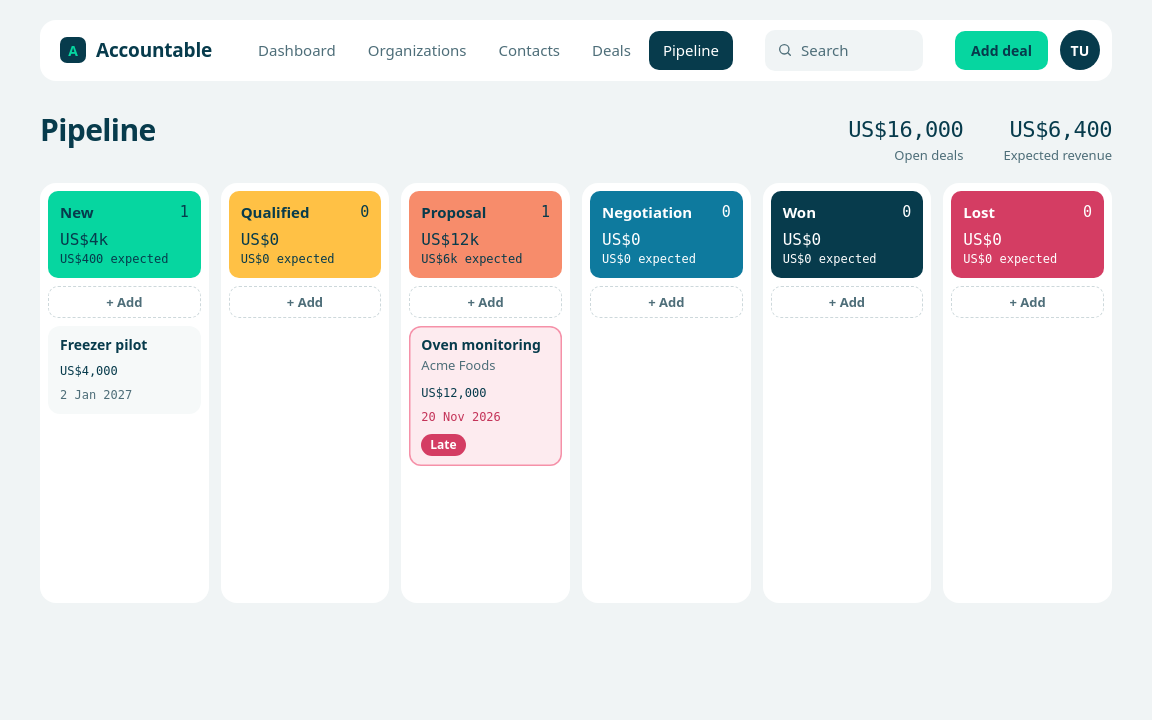
a deal added in a column starts in that stage
Later steps or results of the test are not shown.
Click the button with aria-label "Add deal to Negotiation" at (666, 302), box [590,286,743,318]
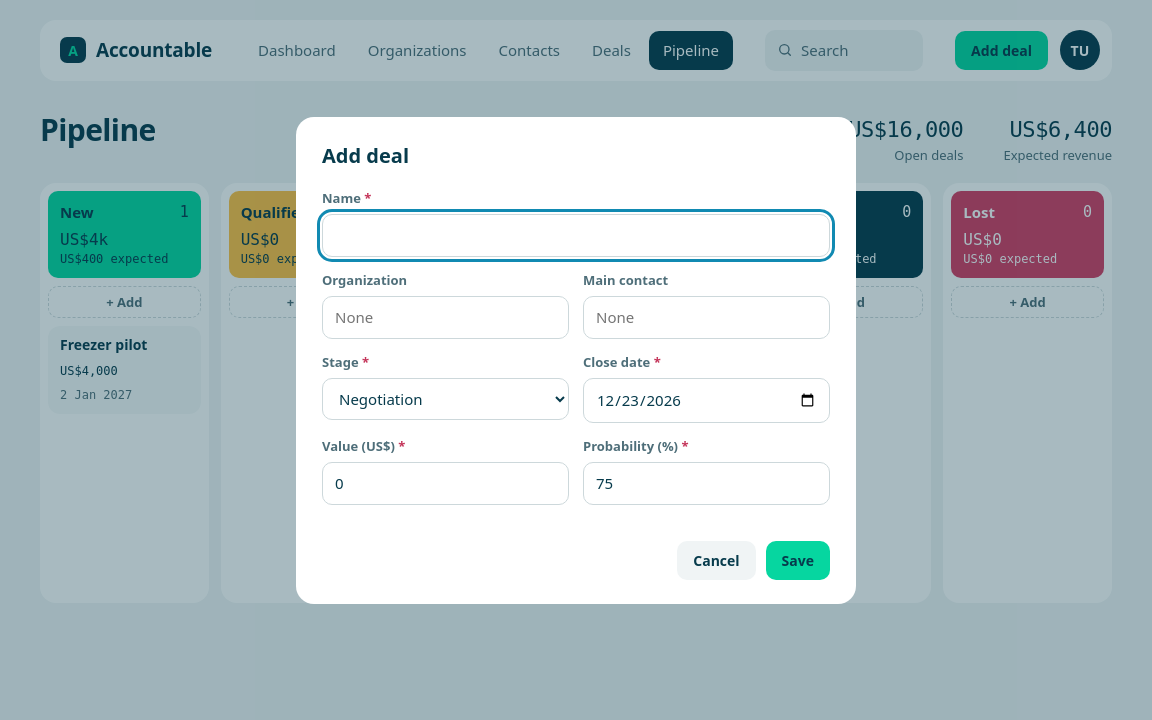
Expected: the number field labelled "Probability (%) *" holds "75", [583,462,830,504]
